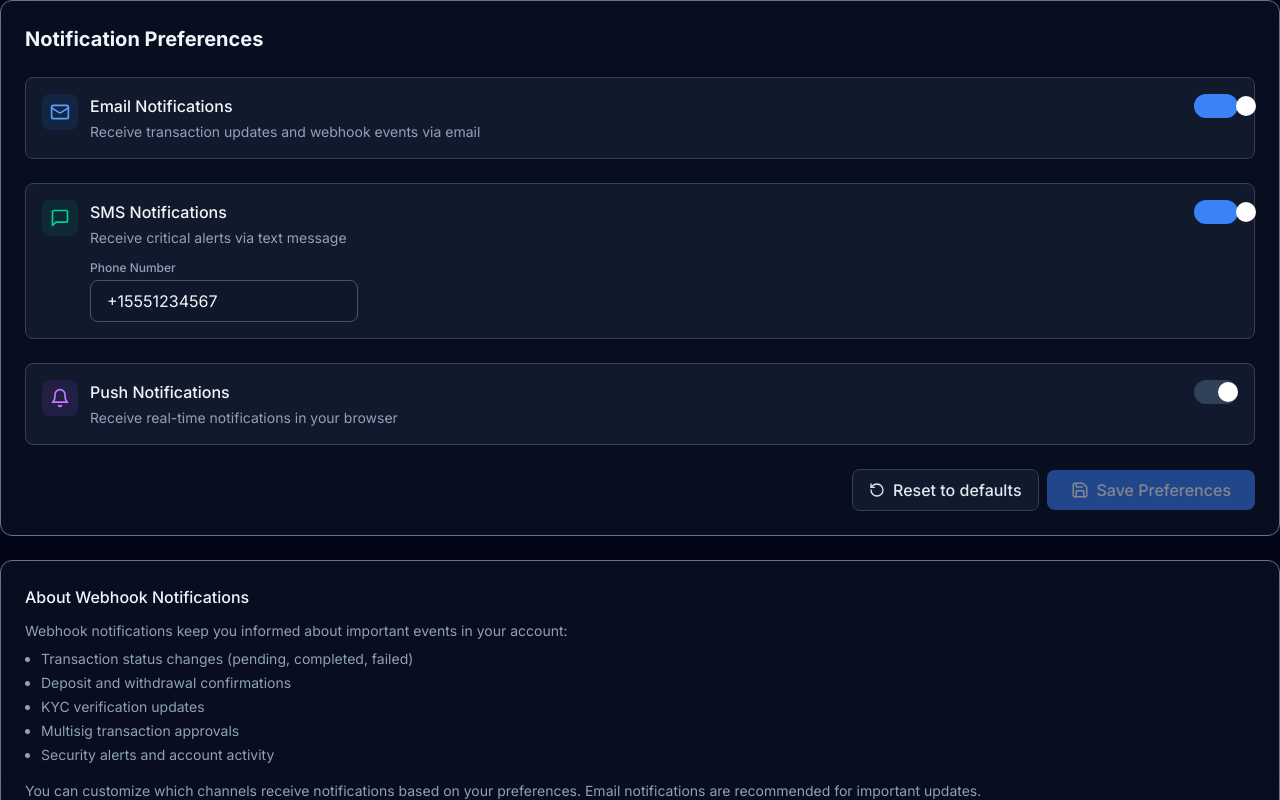
Test: NotificationPreferences toggling › flips a toggle and marks the form dirty
Check: the heading "Notification Preferences" is shown, box [25, 27, 264, 51]
Check: the button "Save Preferences" is disabled, box [1046, 470, 1255, 510]
What coordinates should you click on to do the following:
click the switch named "Toggle push notifications"
I would click on:
 (1216, 392)
Its box is [1194, 380, 1238, 404].
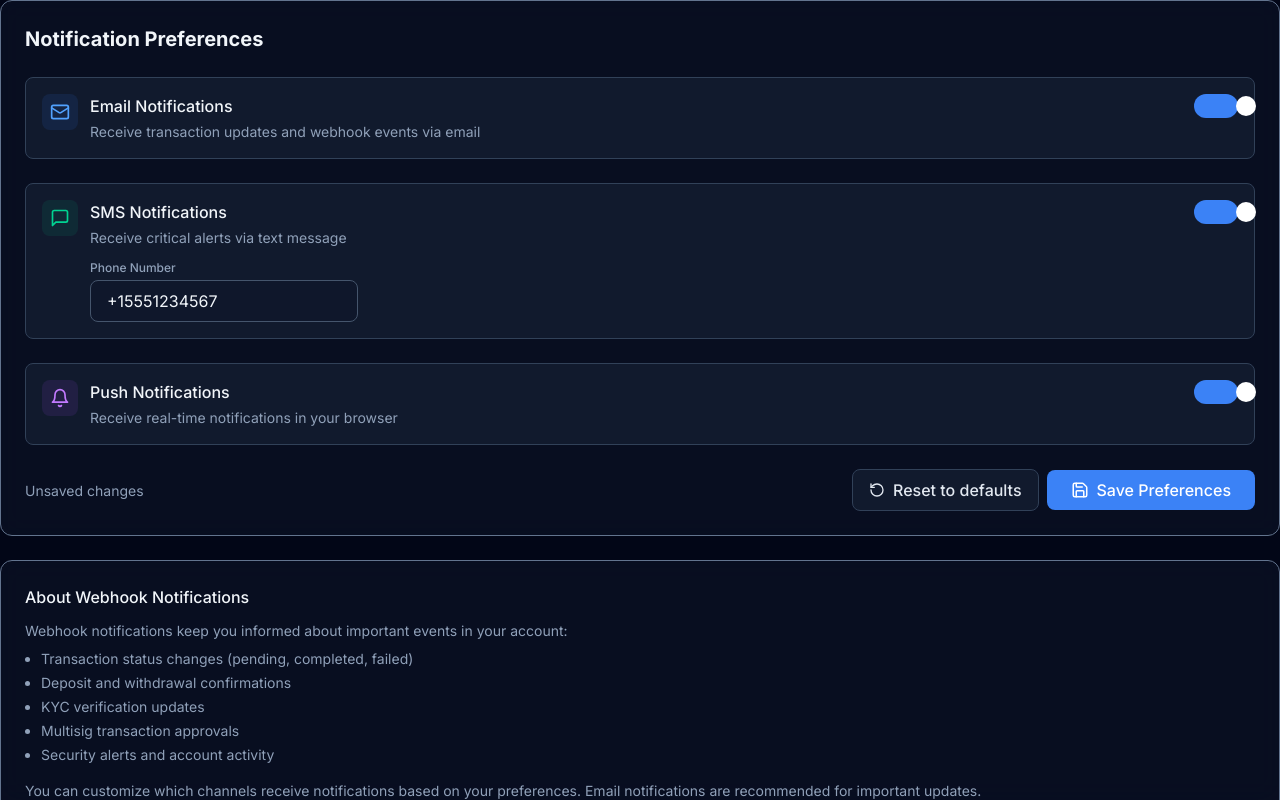
Check: the text "Unsaved changes" is shown, box [25, 482, 144, 499]
Check: the button "Save Preferences" is enabled, box [1046, 470, 1255, 510]
